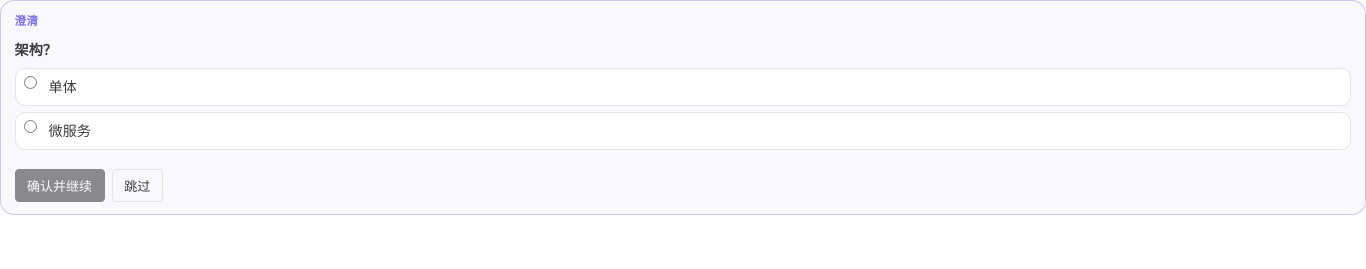
Test case: ChatClarifyCard › hides dependent question until parent option matches
Expected: the tab "拆哪些服务" is not shown
Click the radio button labelled "微服务": (31, 127) [24,120,37,133]
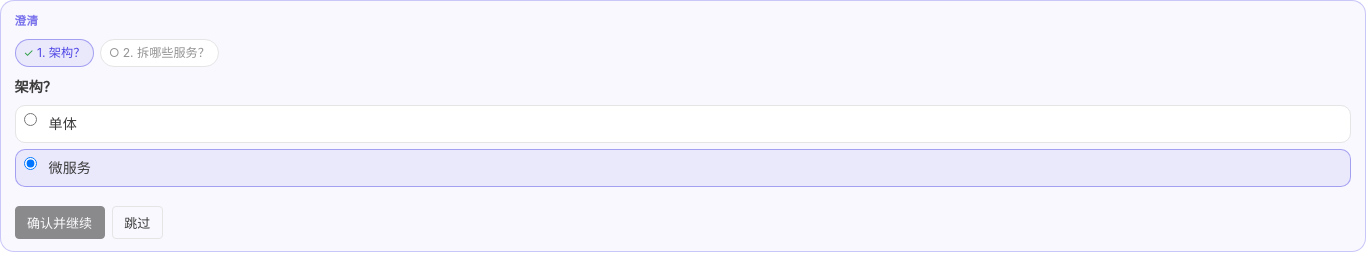
Result: the tab "○2. 拆哪些服务？" is shown at [100,39,219,67]
